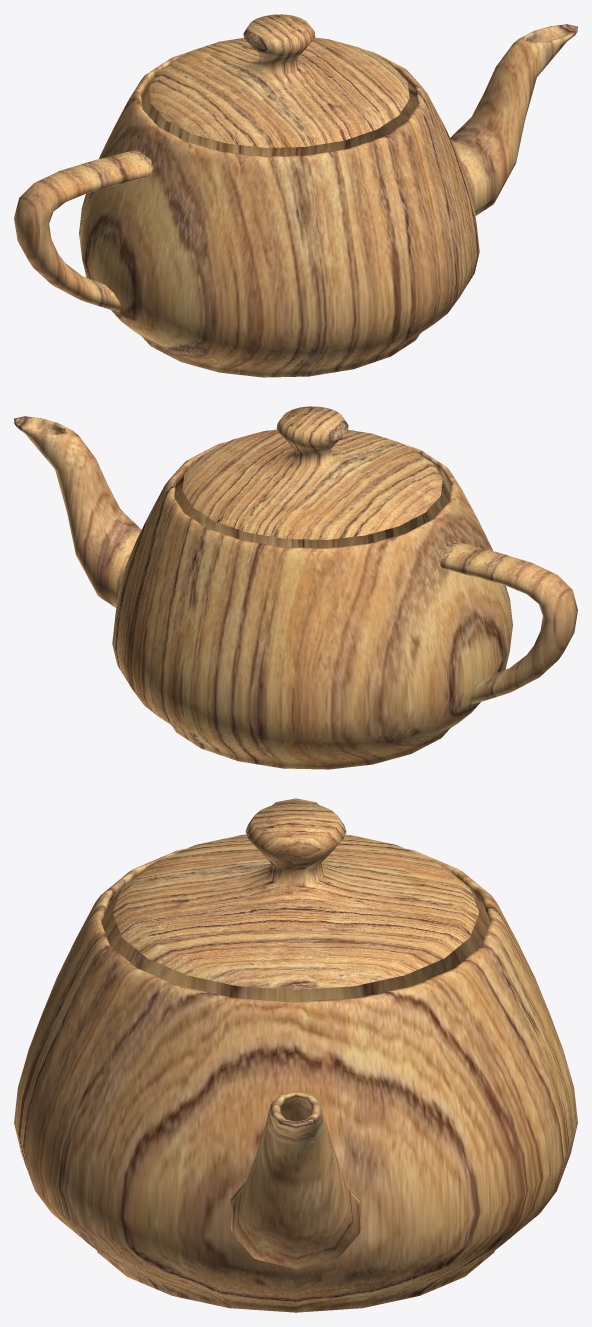
Rendered from teapot.DAE.
3 renders of one model, top to bottom at view 1: azimuth 30°, elevation 25°; view 2: azimuth 150°, elevation 25°; view 3: azimuth 270°, elevation 25°, orthographic. The views are drawn at different scales.
Parts seen in each view (by area): view 1: Teapot001, Teapot002; view 2: Teapot001, Teapot002; view 3: Teapot001, Teapot002.
Boxes of the visible parts, bbox=[...] form: Teapot001: bbox=[14, 24, 577, 377]; Teapot002: bbox=[149, 14, 409, 147]; Teapot001: bbox=[14, 416, 577, 769]; Teapot002: bbox=[182, 406, 442, 539]; Teapot001: bbox=[14, 798, 577, 1312]; Teapot002: bbox=[112, 802, 479, 989].
Bounding box in the file's own units: 64.34 × 40 × 32.95.
